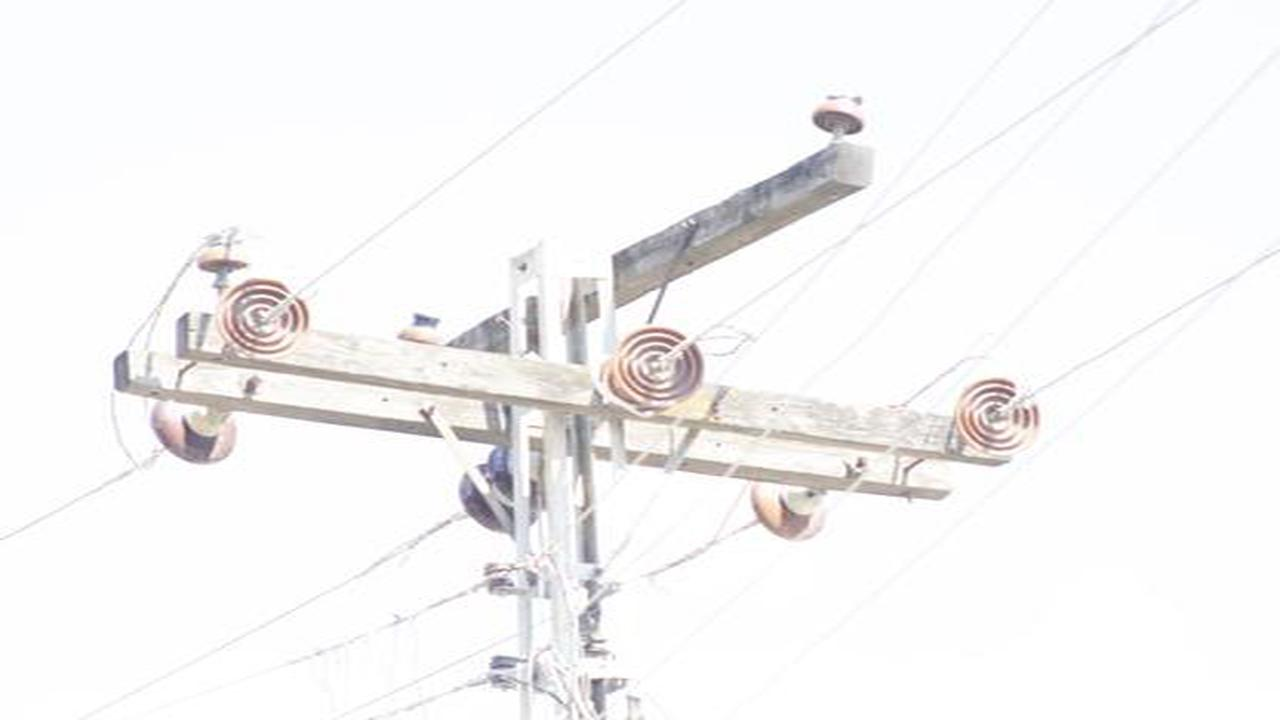insulator_disc: (949, 371, 1044, 459), (610, 325, 706, 408), (216, 276, 312, 357), (149, 394, 243, 468), (748, 479, 830, 543)
insulator_pin: (809, 88, 873, 138), (394, 311, 448, 348), (204, 235, 247, 276)
